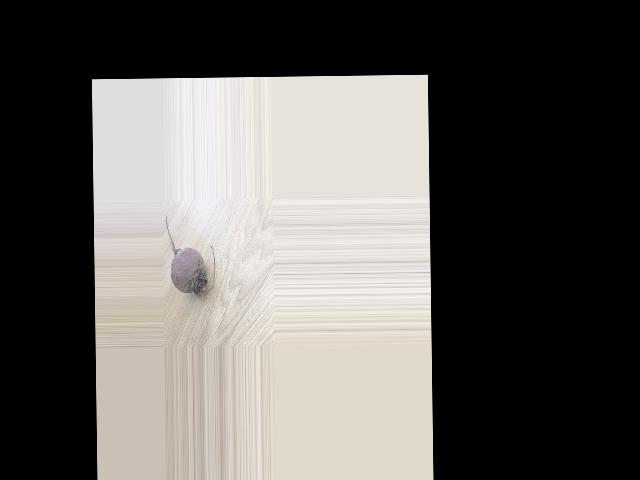beet: (165, 215, 215, 295)
